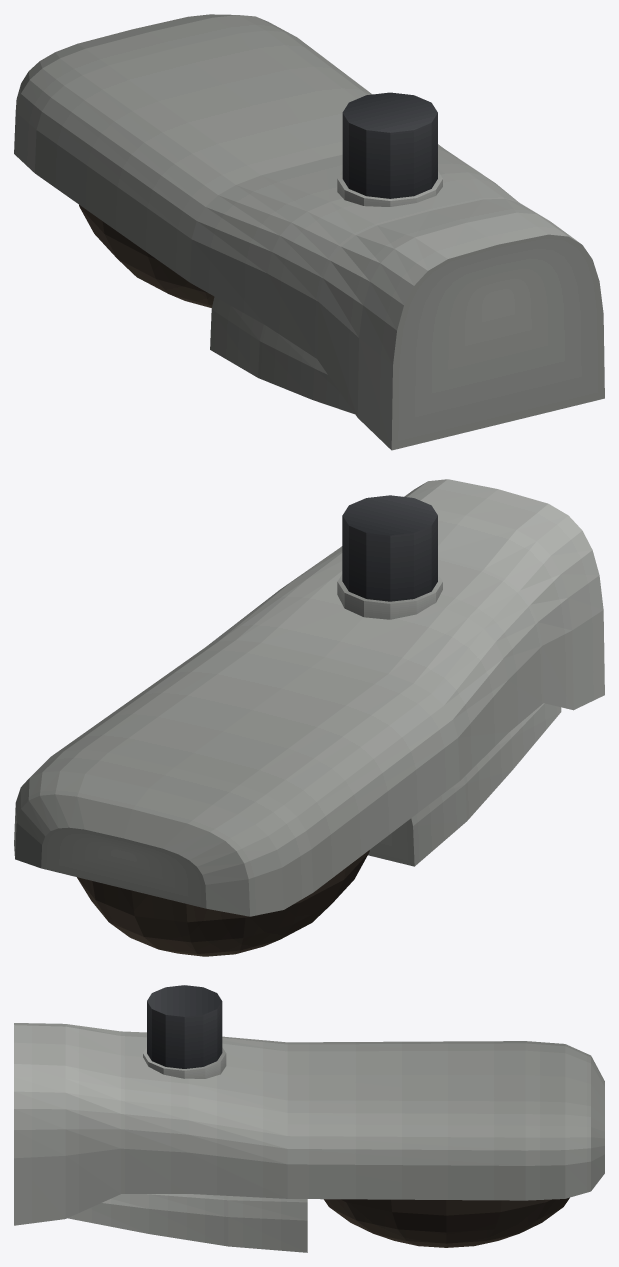
File: streetlight_whov25early.obj
The picture shows the model from 3 angles, top to bottom: view 1: azimuth 30°, elevation 25°; view 2: azimuth 150°, elevation 25°; view 3: azimuth 270°, elevation 25°; orthographic projection. The views are drawn at different scales.
Visible parts, largest first — view 1: fixture; view 2: fixture; view 3: fixture.
Boxes of the visible parts, x1,y1,x2,y2 form: fixture: (14,14,604,450); fixture: (14,479,604,956); fixture: (14,985,604,1252).
Size of the model in its own units: 0.4 by 0.4087 by 0.9312.
